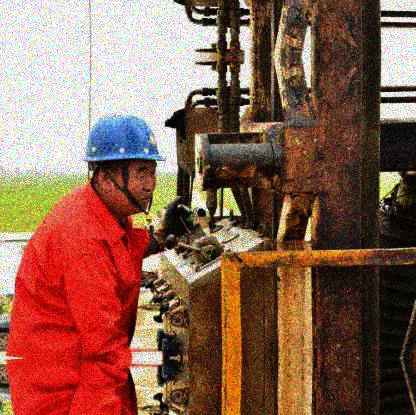helmet: (87, 112, 165, 212)
